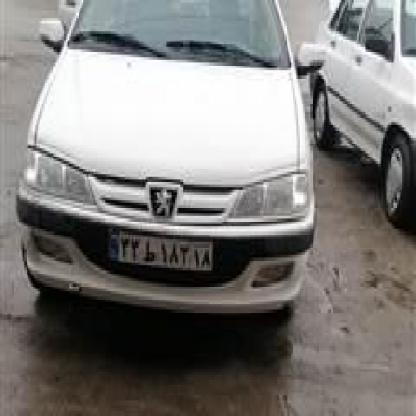Car: (19, 0, 309, 346), (289, 0, 416, 224)
